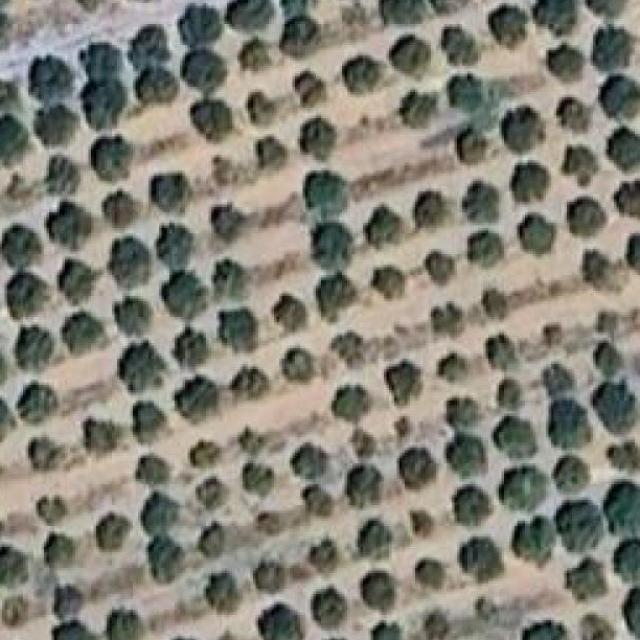Tree: (345, 463, 396, 521), (499, 460, 548, 520), (161, 266, 222, 314), (546, 404, 597, 458), (57, 308, 112, 356), (596, 474, 640, 534), (303, 170, 357, 218), (7, 332, 61, 380), (73, 37, 133, 80), (80, 81, 132, 130), (117, 341, 166, 392), (47, 260, 101, 306), (178, 372, 223, 427), (75, 414, 124, 464), (493, 416, 542, 466), (560, 544, 610, 593), (497, 102, 548, 150), (502, 514, 556, 559), (457, 179, 505, 229), (560, 498, 602, 555), (598, 71, 640, 128), (314, 220, 363, 268), (593, 378, 640, 428), (276, 10, 324, 58), (170, 324, 216, 374), (256, 599, 312, 640), (442, 17, 487, 68), (280, 434, 328, 481), (0, 223, 46, 272), (588, 19, 637, 65), (510, 210, 560, 255), (106, 236, 154, 282), (52, 198, 100, 244), (486, 1, 534, 47), (582, 244, 628, 292), (376, 356, 422, 404), (112, 294, 167, 334), (183, 48, 228, 96), (93, 132, 142, 176), (439, 393, 488, 437), (457, 538, 500, 588), (159, 220, 204, 267), (34, 106, 82, 150), (133, 69, 184, 110), (408, 192, 453, 238), (390, 26, 434, 73), (562, 193, 606, 240), (345, 52, 386, 102), (178, 6, 224, 50), (246, 92, 290, 138), (124, 398, 170, 442), (449, 429, 492, 476), (28, 52, 70, 100), (360, 566, 402, 614), (603, 540, 640, 594), (295, 113, 337, 160), (122, 22, 166, 66), (546, 95, 591, 138), (319, 270, 361, 316), (316, 580, 356, 628), (227, 0, 280, 36), (361, 508, 399, 558), (298, 474, 343, 516), (182, 440, 228, 481), (147, 532, 186, 580), (217, 309, 260, 352), (274, 288, 318, 330), (104, 186, 146, 230), (31, 430, 71, 476), (250, 552, 296, 592), (276, 341, 322, 381), (450, 486, 488, 534), (251, 134, 293, 177), (471, 284, 514, 326), (12, 382, 54, 424), (143, 488, 185, 530), (242, 461, 284, 503), (193, 100, 236, 141), (136, 452, 179, 493), (42, 158, 82, 202), (534, 0, 584, 35), (373, 0, 427, 32), (94, 508, 136, 549), (204, 568, 247, 608), (560, 137, 602, 177), (605, 175, 640, 222), (413, 555, 451, 598), (434, 348, 479, 384), (211, 263, 252, 302), (49, 531, 88, 571), (544, 40, 586, 77), (400, 95, 439, 134), (26, 498, 68, 534), (308, 533, 351, 568), (428, 301, 471, 336), (335, 383, 374, 421), (515, 160, 552, 200), (201, 524, 237, 565), (373, 261, 414, 297), (241, 38, 278, 77), (232, 425, 271, 462), (603, 132, 640, 171), (598, 432, 640, 466), (536, 367, 582, 398), (211, 200, 249, 237), (397, 446, 434, 484), (345, 427, 381, 466), (465, 226, 505, 261), (54, 617, 114, 640), (0, 71, 32, 114), (285, 76, 323, 112), (408, 498, 443, 536), (553, 458, 588, 496), (417, 244, 452, 282), (0, 545, 30, 589), (332, 338, 372, 371), (152, 176, 187, 212), (0, 118, 30, 160), (2, 267, 38, 302), (483, 328, 520, 362), (520, 615, 570, 640), (108, 606, 143, 640), (193, 477, 225, 514), (572, 613, 615, 640), (420, 604, 456, 636), (376, 207, 408, 243), (229, 369, 264, 401), (0, 592, 32, 627), (450, 71, 480, 108), (253, 510, 285, 544), (459, 129, 493, 161), (0, 6, 23, 52), (617, 589, 640, 635), (494, 377, 526, 409), (586, 0, 632, 21), (52, 592, 89, 618), (591, 338, 617, 373), (368, 623, 415, 640), (0, 398, 17, 444), (0, 343, 15, 394), (70, 0, 112, 18), (394, 414, 424, 439), (214, 155, 234, 186), (428, 0, 471, 12), (276, 0, 316, 12), (159, 630, 206, 640), (629, 233, 640, 275), (310, 630, 354, 640)
